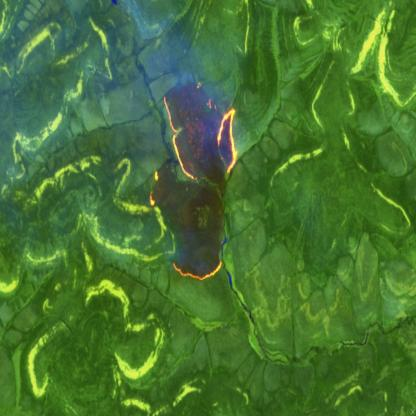fire: (149, 97, 240, 285)
